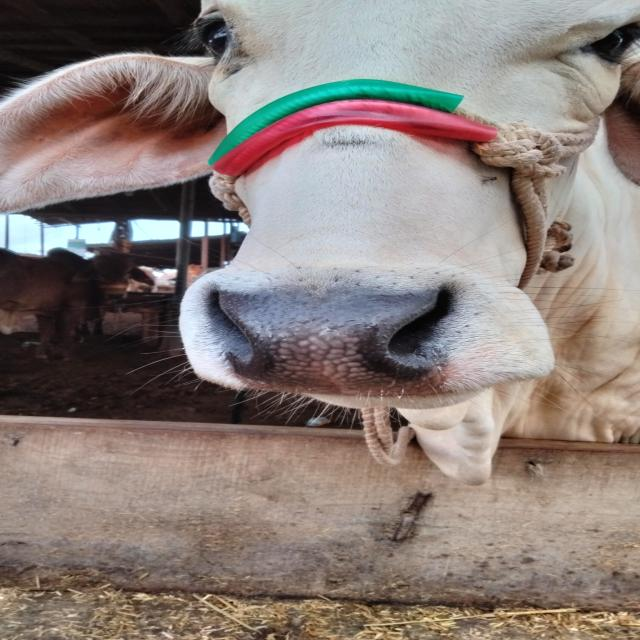muzzles: (188, 270, 507, 403)
